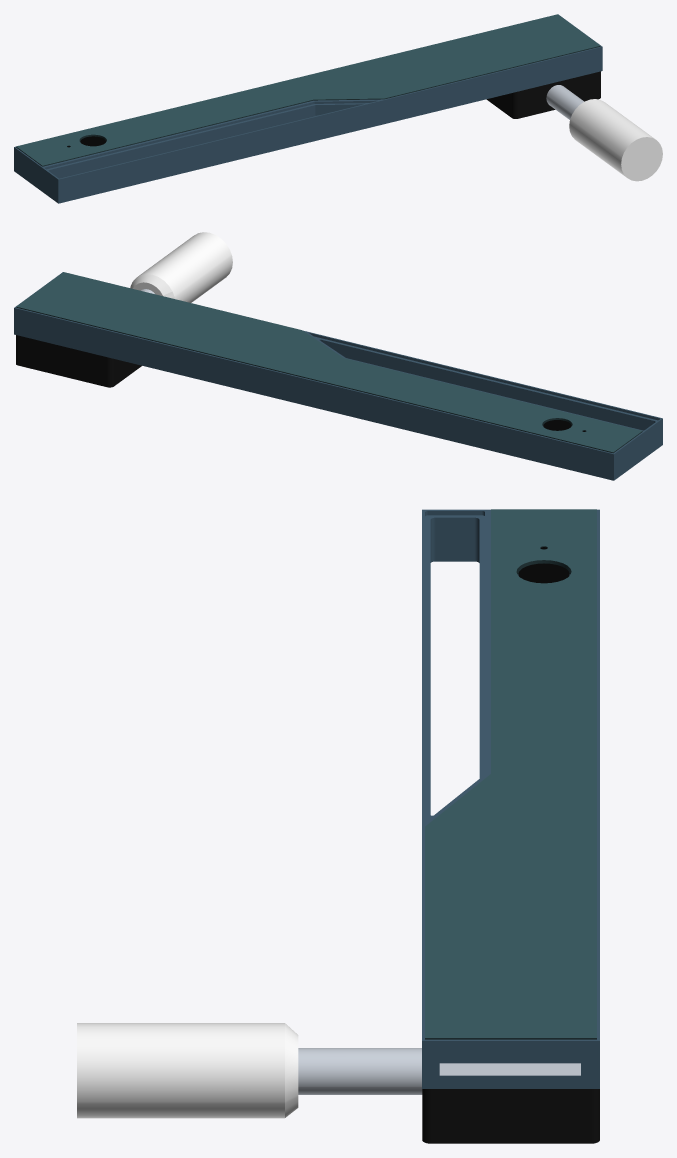
The model's file is r200_entire.dae.
3 views of the same model, one above another, from view 1: azimuth 30°, elevation 25°; view 2: azimuth 150°, elevation 25°; view 3: azimuth 270°, elevation 25° (orthographic). The views are drawn at different scales.
Visible parts, largest first — view 1: R200_Camera (×5), r200_pole (×3); view 2: R200_Camera (×5), r200_pole (×2); view 3: R200_Camera (×5), r200_pole (×3).
Boxes of the visible parts, bbox=[...] form: R200_Camera (×5): bbox=[14, 14, 602, 203]; r200_pole (×3): bbox=[486, 71, 662, 181]; R200_Camera (×5): bbox=[14, 272, 662, 480]; r200_pole (×2): bbox=[16, 232, 232, 387]; R200_Camera (×5): bbox=[422, 509, 599, 1088]; r200_pole (×3): bbox=[77, 1023, 599, 1143].
Size of the model in its own units: 51.18 by 21.3 by 5.42.
7 materials, 1 textured.
